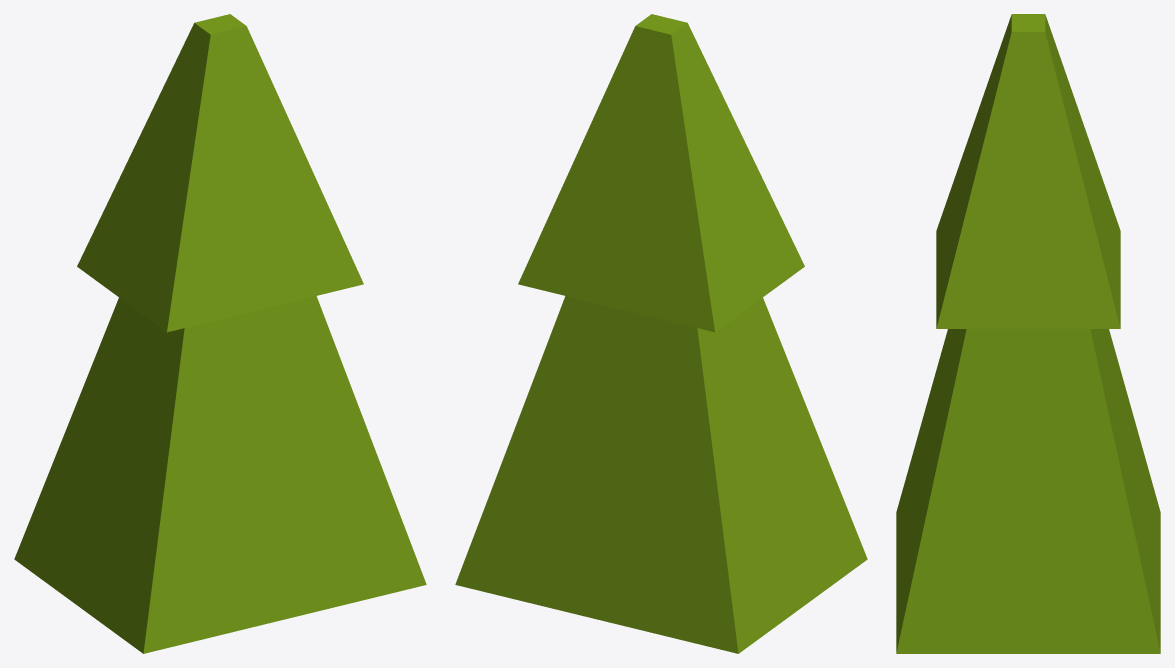
File: tree-summer-leaves-017.glb
The picture shows the model from 3 angles, left to right: view 1: azimuth 30°, elevation 25°; view 2: azimuth 150°, elevation 25°; view 3: azimuth 270°, elevation 25°; orthographic projection. The views are drawn at different scales.
Visible parts, largest first — view 1: Cube.012_241; view 2: Cube.012_241; view 3: Cube.012_241.
Boxes of the visible parts, box(x1,y1,x2,y2) form: Cube.012_241: box(14, 14, 426, 653); Cube.012_241: box(455, 14, 867, 653); Cube.012_241: box(896, 14, 1160, 653).
Bounding box in the file's own units: 0.3995 × 0.7381 × 0.3157.
